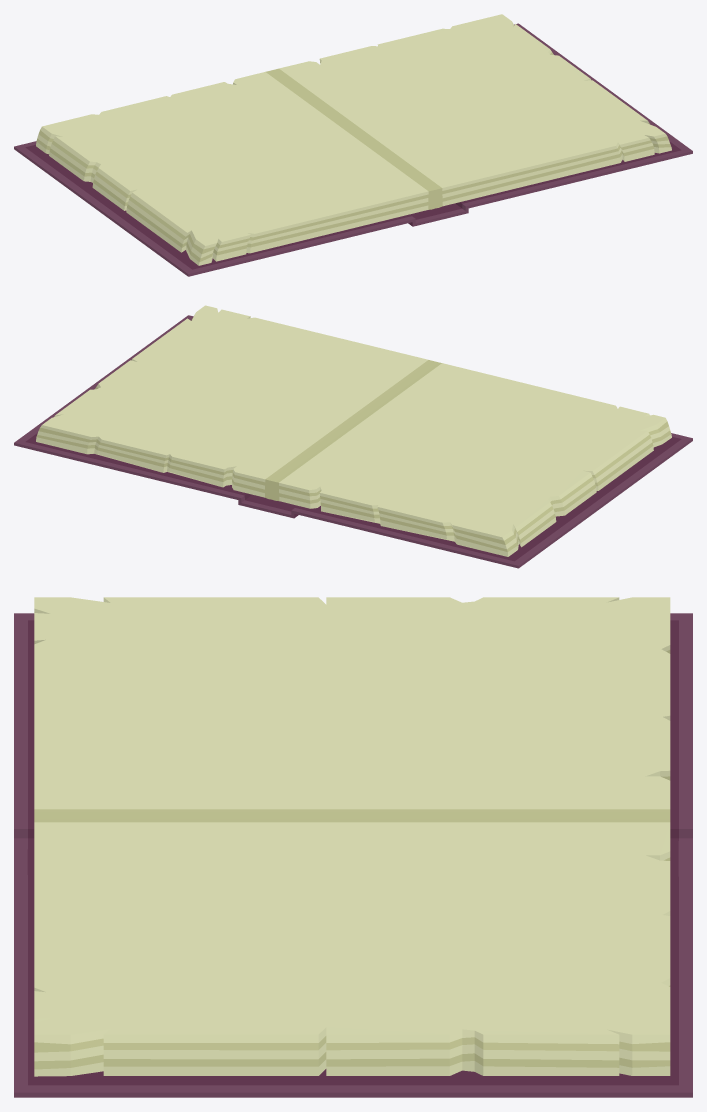
Rendered from libro_animable.glb.
3 views of the same model, one above another, from view 1: azimuth 30°, elevation 25°; view 2: azimuth 150°, elevation 25°; view 3: azimuth 270°, elevation 25° (orthographic). The views are drawn at different scales.
Parts seen in each view (by area): view 1: Plane.006, Plane.002, Plane.016; view 2: Plane.006, Plane.002, Plane.016; view 3: Plane.002, Plane.006, Plane.016.
Part boxes in pixels (x1=…): Plane.006: x1=14, y1=70, x2=440, y2=276; Plane.002: x1=272, y1=14, x2=692, y2=219; Plane.016: x1=410, y1=202, x2=465, y2=223; Plane.006: x1=266, y1=361, x2=692, y2=568; Plane.002: x1=14, y1=305, x2=434, y2=511; Plane.016: x1=241, y1=493, x2=297, y2=514; Plane.002: x1=14, y1=816, x2=692, y2=1097; Plane.006: x1=14, y1=597, x2=692, y2=861; Plane.016: x1=14, y1=829, x2=692, y2=876.
Bounding box in the file's own units: 3.74 × 0.1876 × 2.24.
1 material, 1 textured.
